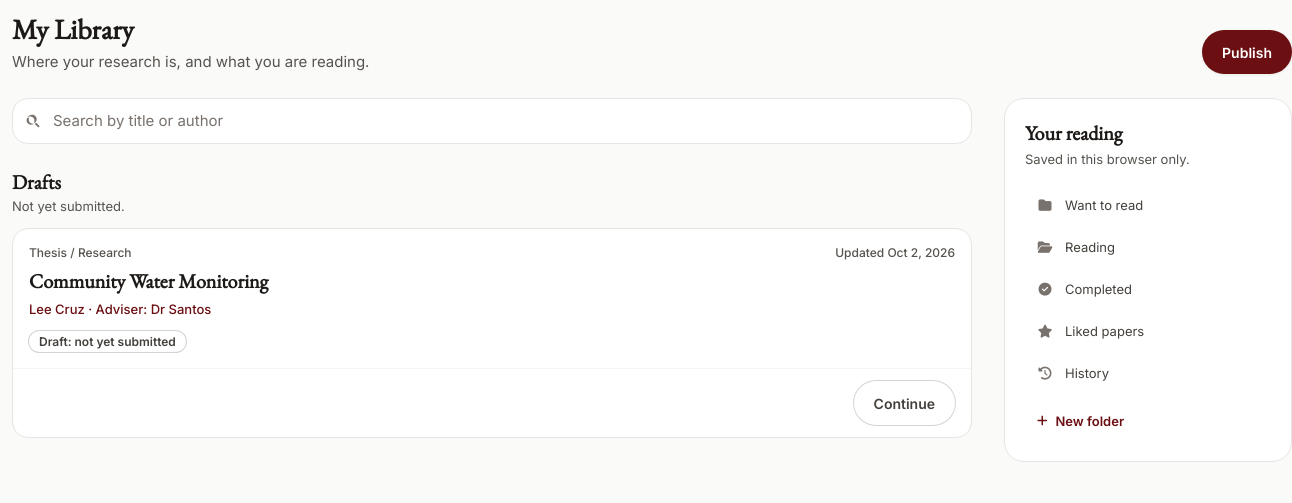
Scenario: My Library: reading › keeps the reading panel beside the research, says it is this browser only, and opens a folder
The width and height of the screenshot is (1292, 503).
Check: the link "Community Water Monitoring" is shown, box [29,268,268,294]
Check: the text "Saved in this browser only." is shown, box [1025,151,1190,167]
What coordinates should you click on to do the following:
click the button "Want to read"
I would click on:
 (1148, 205)
Its box is [1025,185,1271,225].
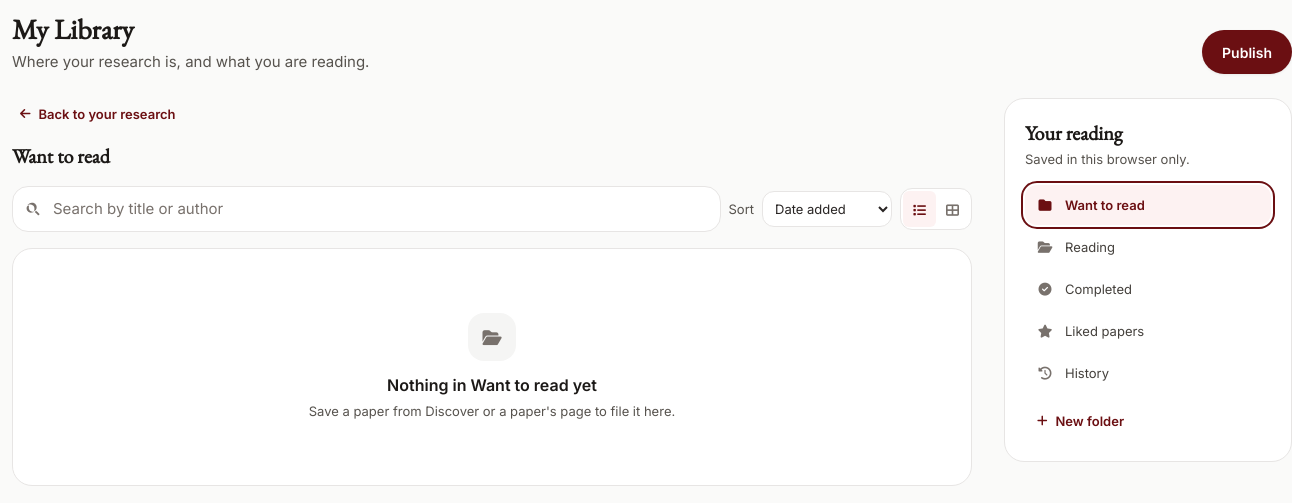
Check: the heading "Nothing in Want to read yet" is shown, box [387,373,597,397]
What coordinates should you click on to do the following:
click the button "Back to your research"
I would click on:
 (98, 114)
Its box is [12,98,184,130].
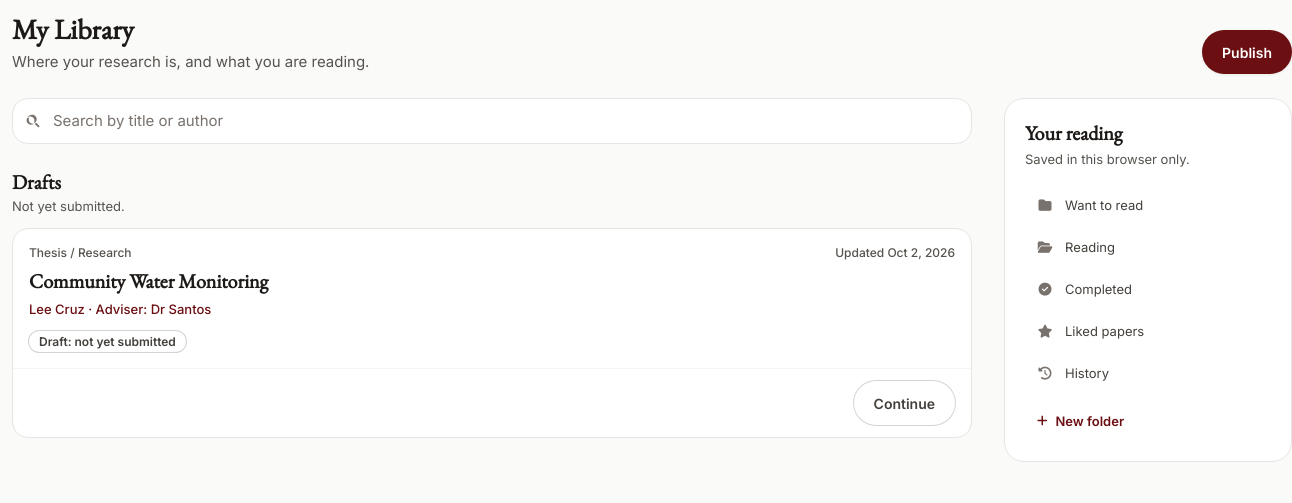
Check: the link "Community Water Monitoring" is shown, box [29,268,268,294]
